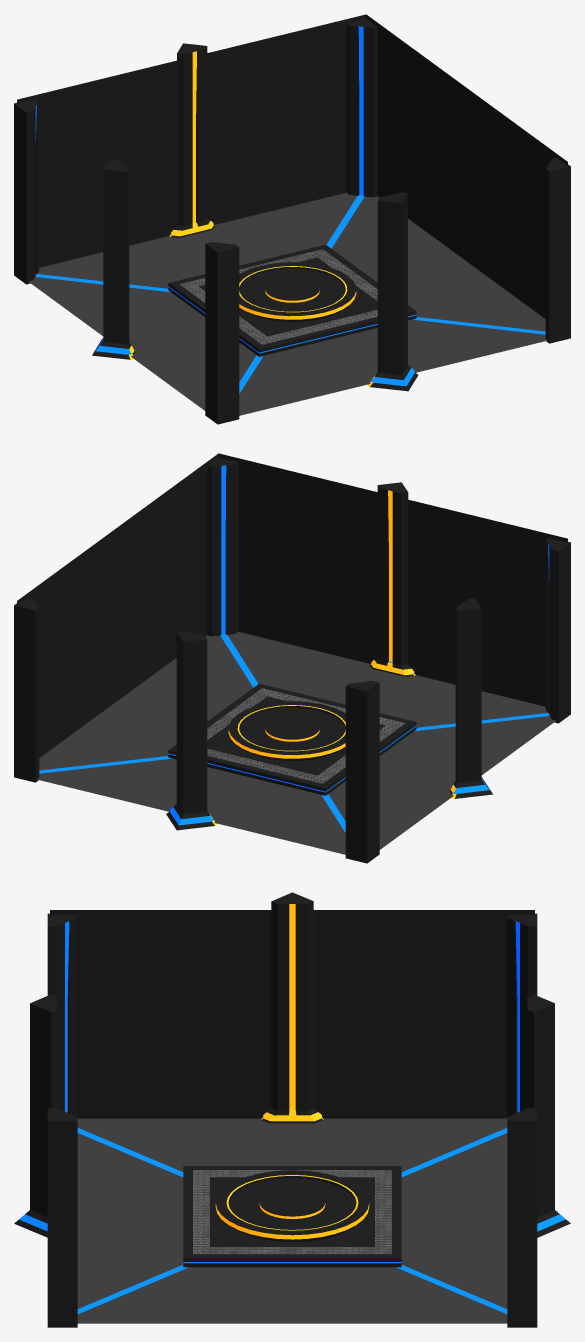
File: escenario.glb
The picture shows the model from 3 angles, top to bottom: view 1: azimuth 30°, elevation 25°; view 2: azimuth 150°, elevation 25°; view 3: azimuth 270°, elevation 25°; orthographic projection. The views are drawn at different scales.
Visible parts, largest first — view 1: Cube.003; view 2: Cube.003; view 3: Cube.003.
Boxes of the visible parts, x1,y1,x2,y2 form: Cube.003: (14,14,570,424); Cube.003: (14,453,570,863); Cube.003: (14,892,570,1327).
Bounding box in the file's own units: 84.49 × 39.3 × 89.89.
5 materials, 1 textured.
